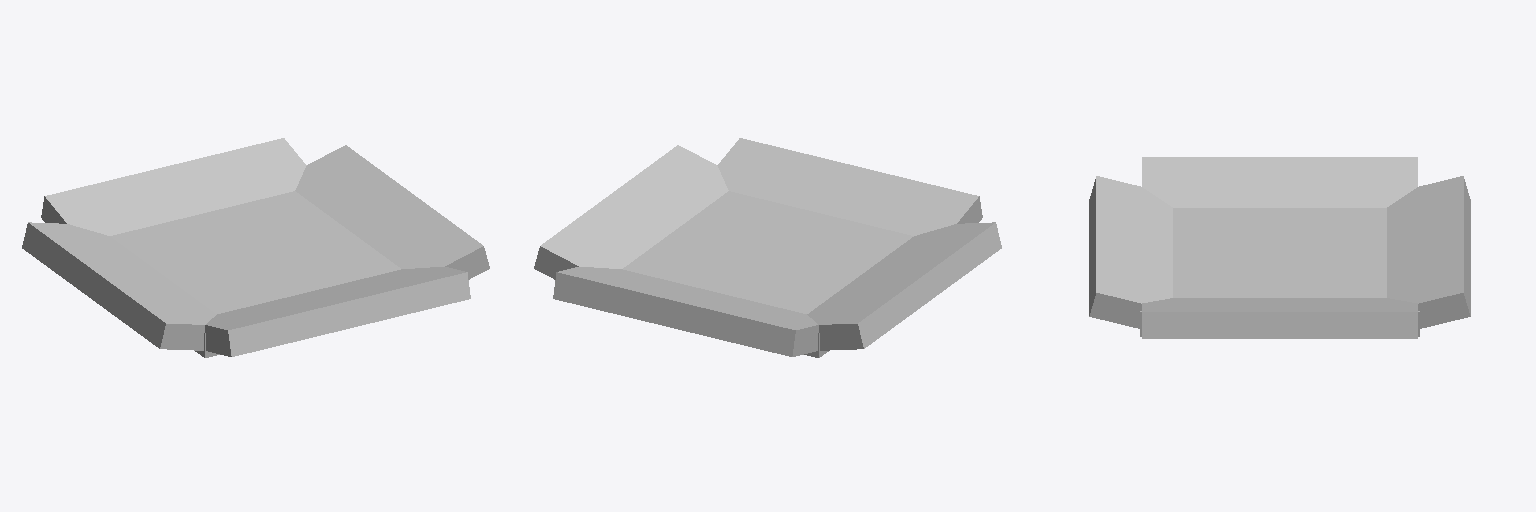
File: teaplate_1.obj
The picture shows the model from 3 angles: view 1: azimuth 30°, elevation 25°; view 2: azimuth 150°, elevation 25°; view 3: azimuth 270°, elevation 25°; orthographic projection.
Visible parts, largest first — view 1: bottom_1, north_rim_1, east_rim_1, south_rim_1, west_rim_1; view 2: bottom_1, south_rim_1, east_rim_1, north_rim_1, west_rim_1; view 3: bottom_1, west_rim_1, east_rim_1, north_rim_1, south_rim_1.
Part boxes in pixels (x1,y1,x2,y2): bottom_1: (110,191,400,357); north_rim_1: (41,138,306,235); east_rim_1: (295,145,489,279); south_rim_1: (205,267,470,356); west_rim_1: (22,222,216,350); bottom_1: (623,191,913,357); south_rim_1: (717,138,982,235); east_rim_1: (534,145,728,279); north_rim_1: (553,267,818,356); west_rim_1: (807,222,1001,350); bottom_1: (1140,208,1419,336); west_rim_1: (1142,157,1417,207); east_rim_1: (1142,298,1417,338); north_rim_1: (1387,176,1470,328); south_rim_1: (1089,176,1172,328).
Bounding box in the file's own units: 0.8622 × 0.1089 × 0.8622.